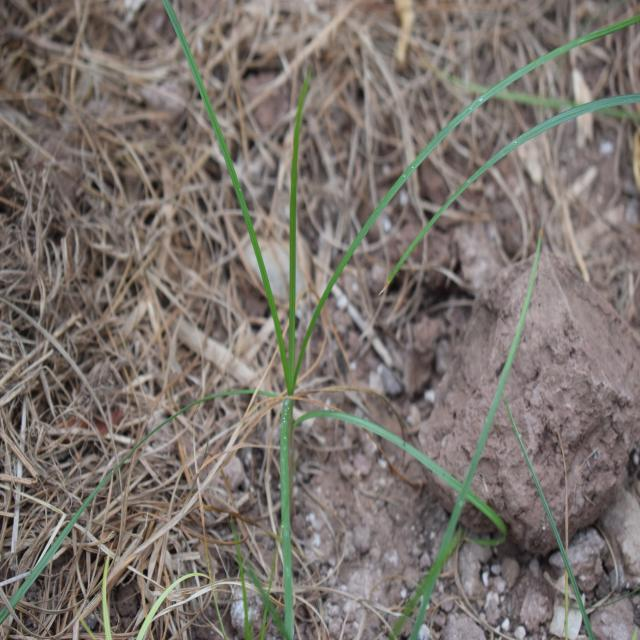sedge: (127, 0, 556, 584)
